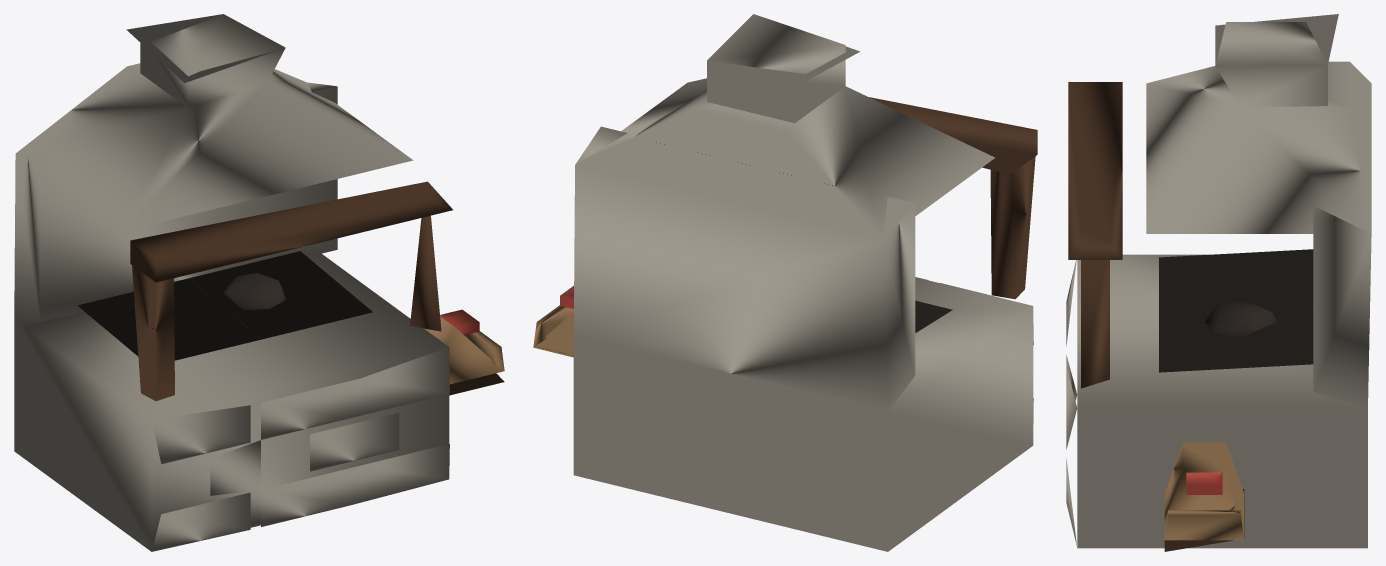
The model's file is forge_lod1.glb.
3 renders of one model, left to right at view 1: azimuth 30°, elevation 25°; view 2: azimuth 150°, elevation 25°; view 3: azimuth 270°, elevation 25°, orthographic. The views are drawn at different scales.
Bounding box in the file's own units: 2.65 × 2.62 × 1.68.
